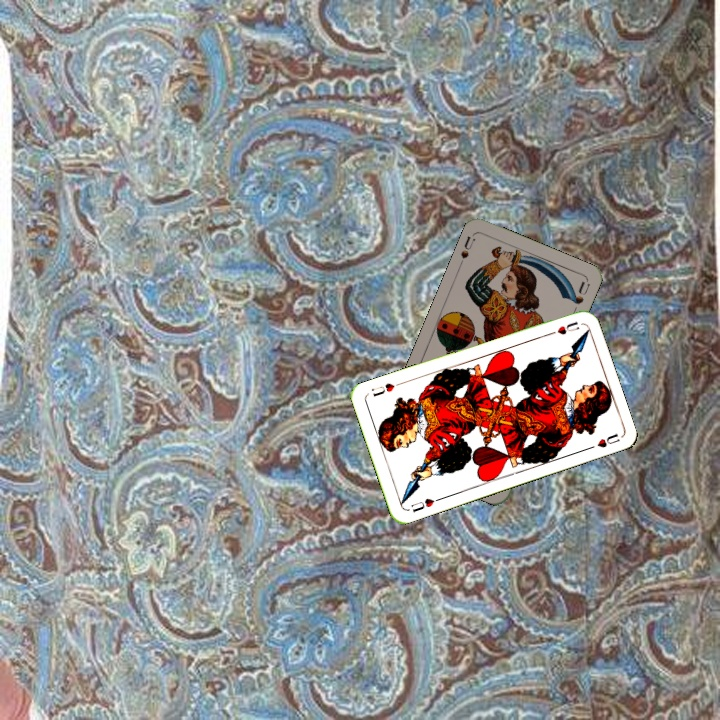HU: (543, 317, 582, 338), (407, 494, 443, 515)
SU: (457, 232, 478, 261)
